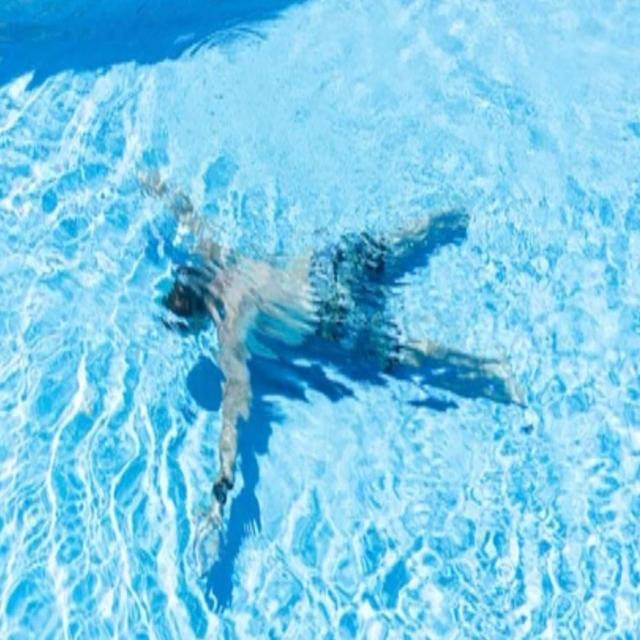Swimming: (140, 168, 516, 506)
